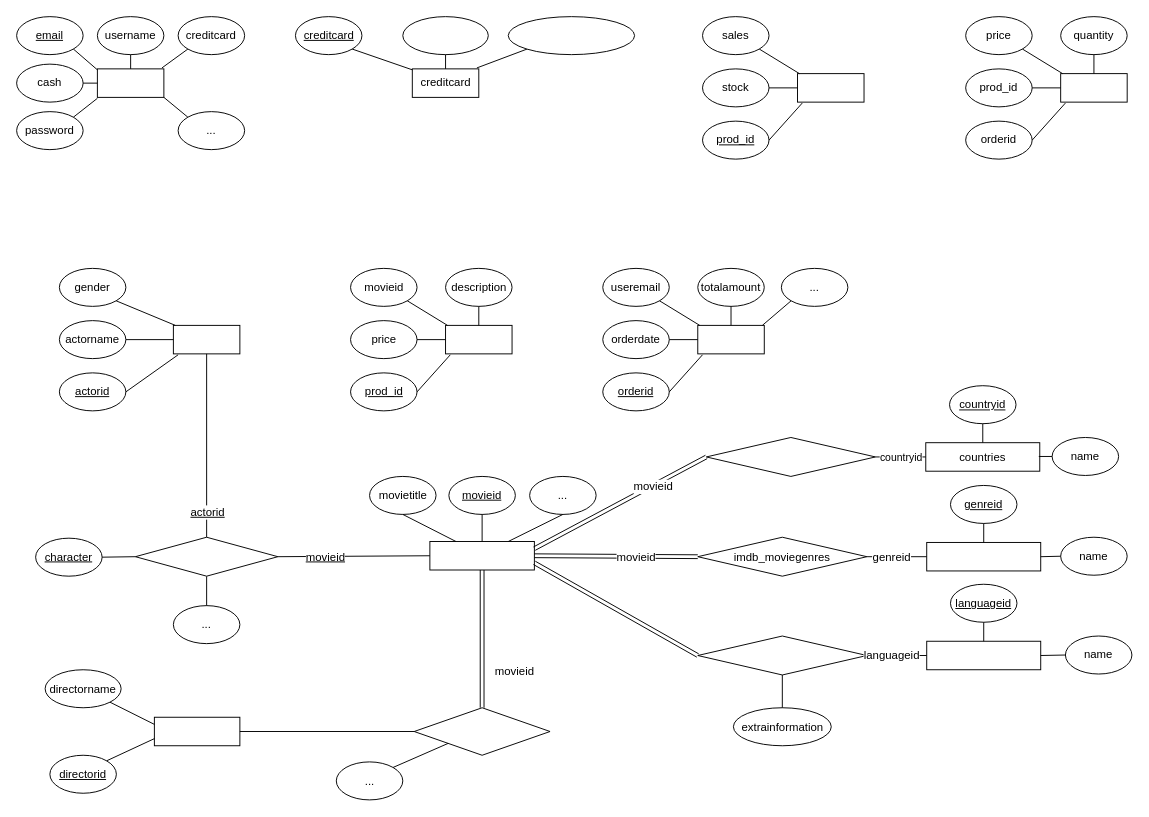
Image size: 1149x817. Some labels were removed from this diagram. The shapes that lost their labels are listed below. From the top down, each one's box as (x1, y1, x2, y2) in pixels, then its label:
(402, 16, 488, 55): creditcardtype
(507, 16, 635, 55): creditcardexpiration
(96, 68, 164, 97): customers
(797, 73, 864, 102): inventory
(1060, 73, 1127, 102): orderdetail
(172, 324, 240, 354): imdb_actors
(445, 324, 512, 354): product
(697, 324, 764, 354): orders
(705, 437, 875, 476): imdb_moviecountries
(134, 536, 278, 576): imdb_actormovies
(429, 541, 534, 570): imdb_movies
(926, 542, 1041, 571): genres
(697, 635, 867, 675): imdb_movielanguages
(926, 640, 1041, 670): language
(153, 716, 240, 746): imdb_directors
(413, 707, 550, 755): imdb_directormovies
